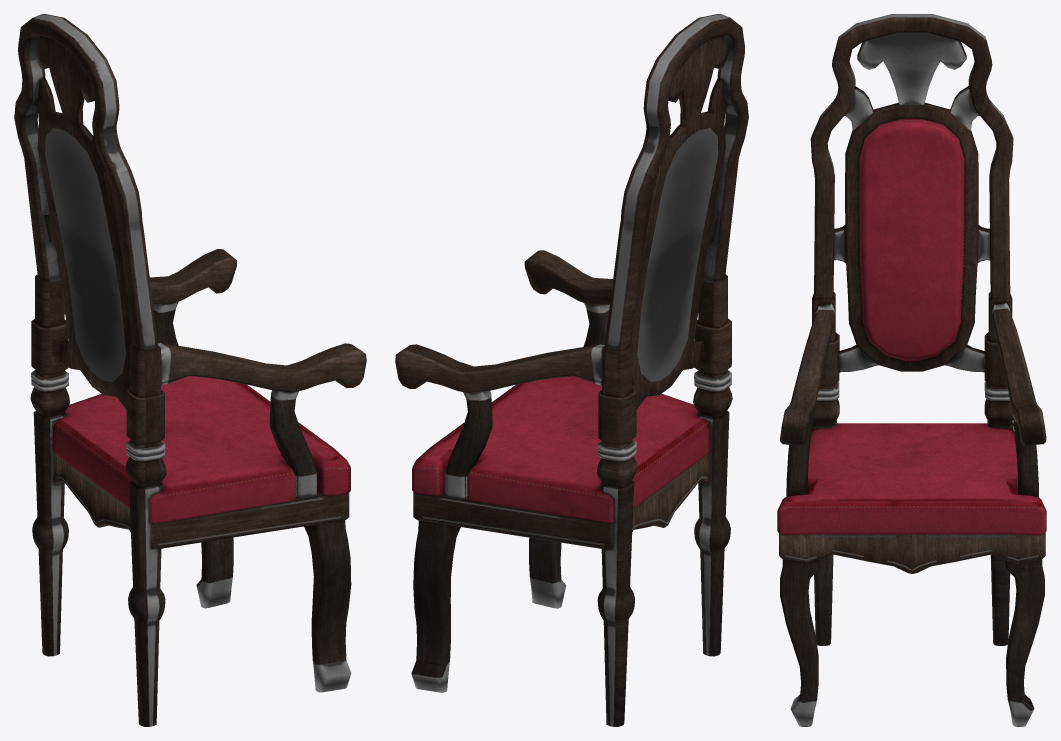
Rendered from victorian_dining_chair.glb.
The picture shows the model from 3 angles, left to right: view 1: azimuth 30°, elevation 25°; view 2: azimuth 150°, elevation 25°; view 3: azimuth 270°, elevation 25°; orthographic projection. The views are drawn at different scales.
Visible parts, largest first — view 1: g; view 2: g; view 3: g.
Part boxes in pixels (box(x1,y1,x2,y2)): g: box(14, 14, 366, 726); g: box(395, 14, 748, 726); g: box(777, 14, 1046, 726).
Size of the model in its own units: 0.7468 by 2 by 0.7959.
Materials: 1 (1 with a texture image).
